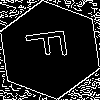F: (25, 25, 78, 62)
